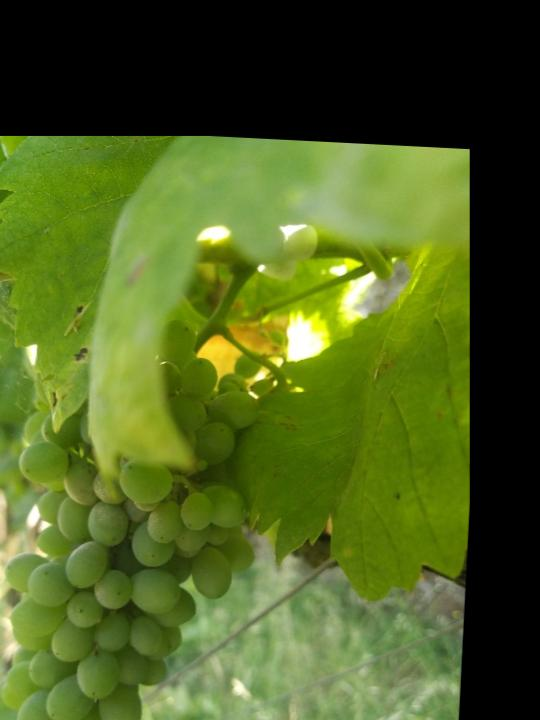grape: (0, 312, 266, 720)
